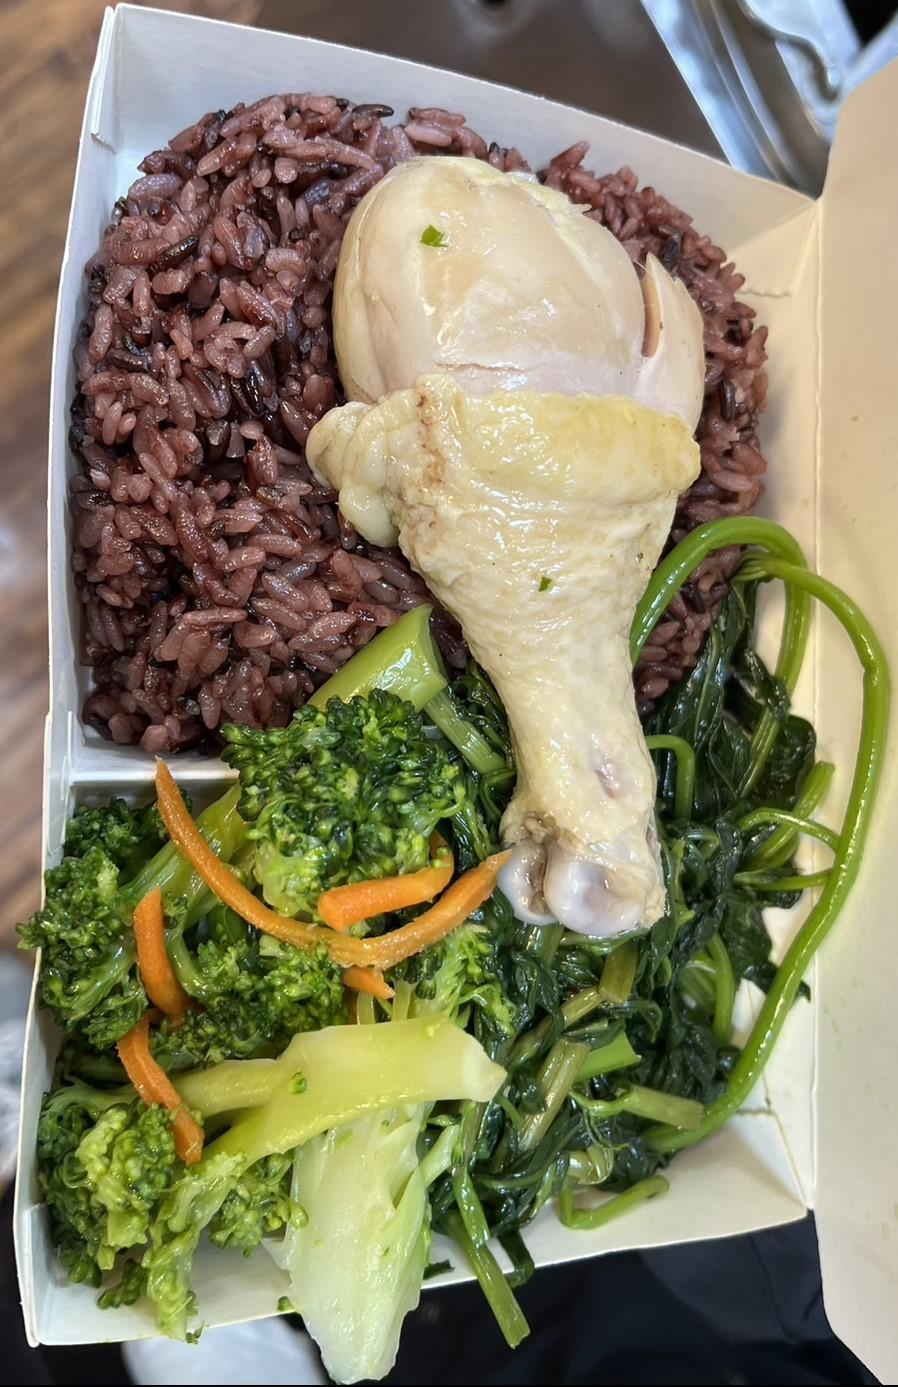big grilled chicken leg: (20, 4, 846, 1353)
braised fish: (68, 84, 769, 750)
braised fish fillet: (17, 618, 498, 1379), (486, 524, 891, 1216)
braised pork: (310, 148, 721, 942)
